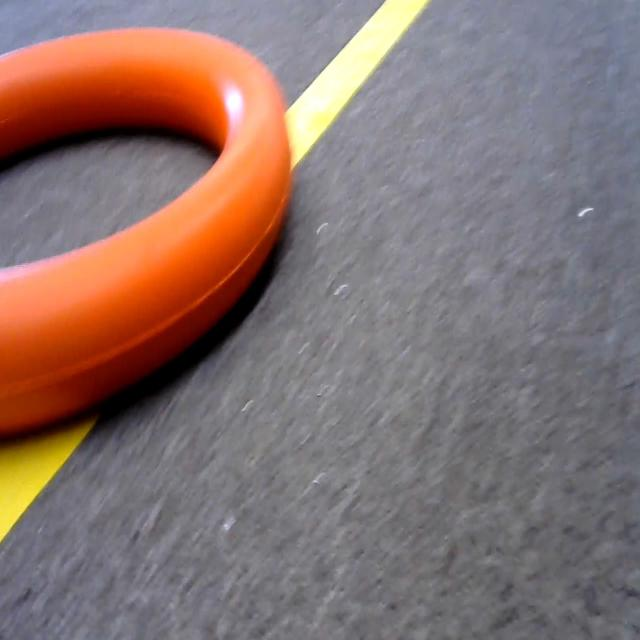note: (0, 14, 319, 425)
